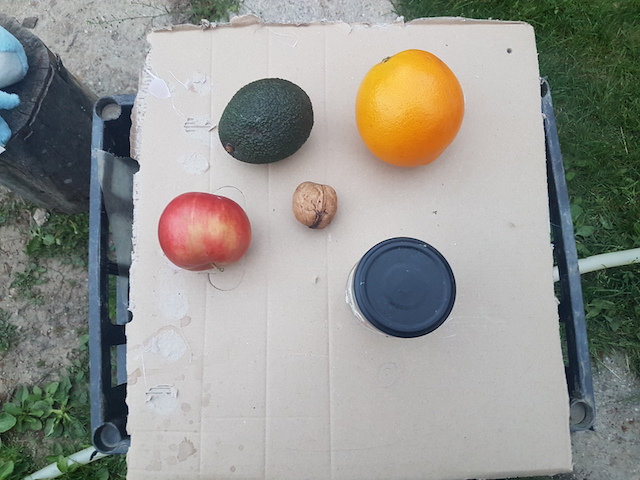apple: (155, 190, 254, 274)
avocado: (219, 78, 319, 165)
nut: (290, 180, 338, 229)
orange: (355, 48, 465, 169)
recipient: (354, 234, 459, 339)
